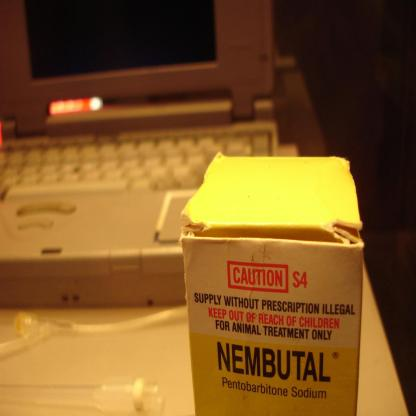board: (0, 0, 277, 310)
